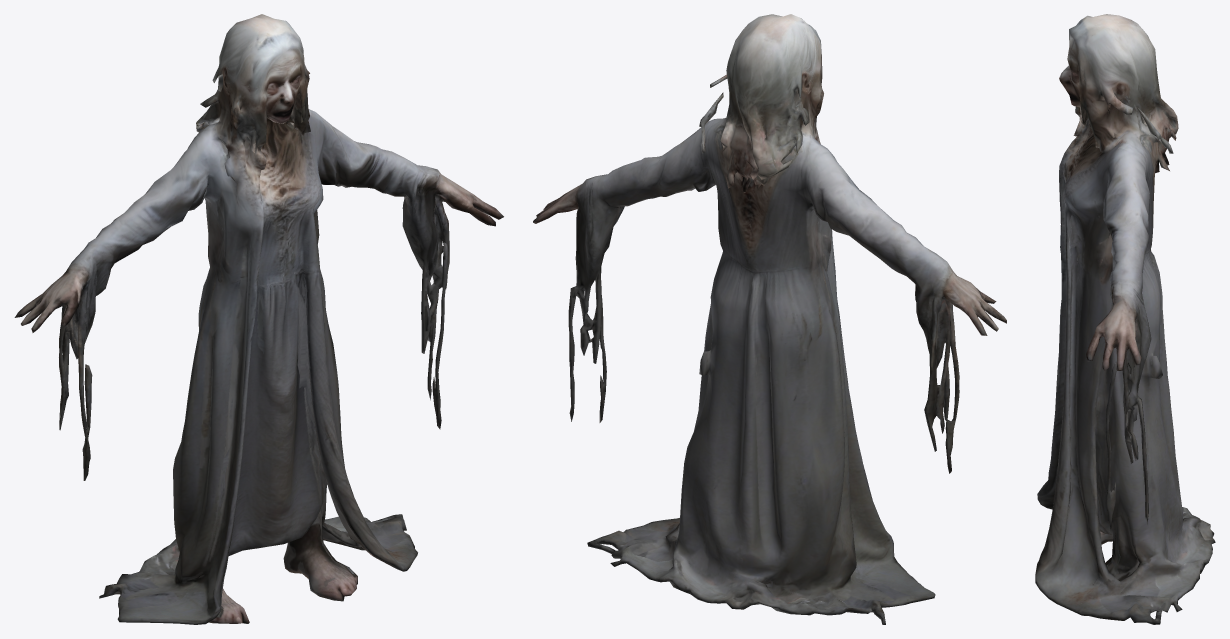
File: Create_a_terrifying_c_1023130239_texture.obj
The picture shows the model from 3 angles, left to right: view 1: azimuth 30°, elevation 25°; view 2: azimuth 150°, elevation 25°; view 3: azimuth 270°, elevation 25°; orthographic projection. The views are drawn at different scales.
Parts seen in each view (by area): view 1: Create_a_terrifying_c_1023130239_texture; view 2: Create_a_terrifying_c_1023130239_texture; view 3: Create_a_terrifying_c_1023130239_texture.
Part boxes in pixels (box(x1,y1,x2,y2)): Create_a_terrifying_c_1023130239_texture: box(14, 14, 503, 624); Create_a_terrifying_c_1023130239_texture: box(533, 14, 1006, 624); Create_a_terrifying_c_1023130239_texture: box(1035, 14, 1215, 624).
Bounding box in the file's own units: 1.72 × 2 × 0.5948.
Materials: 1 (1 with a texture image).
